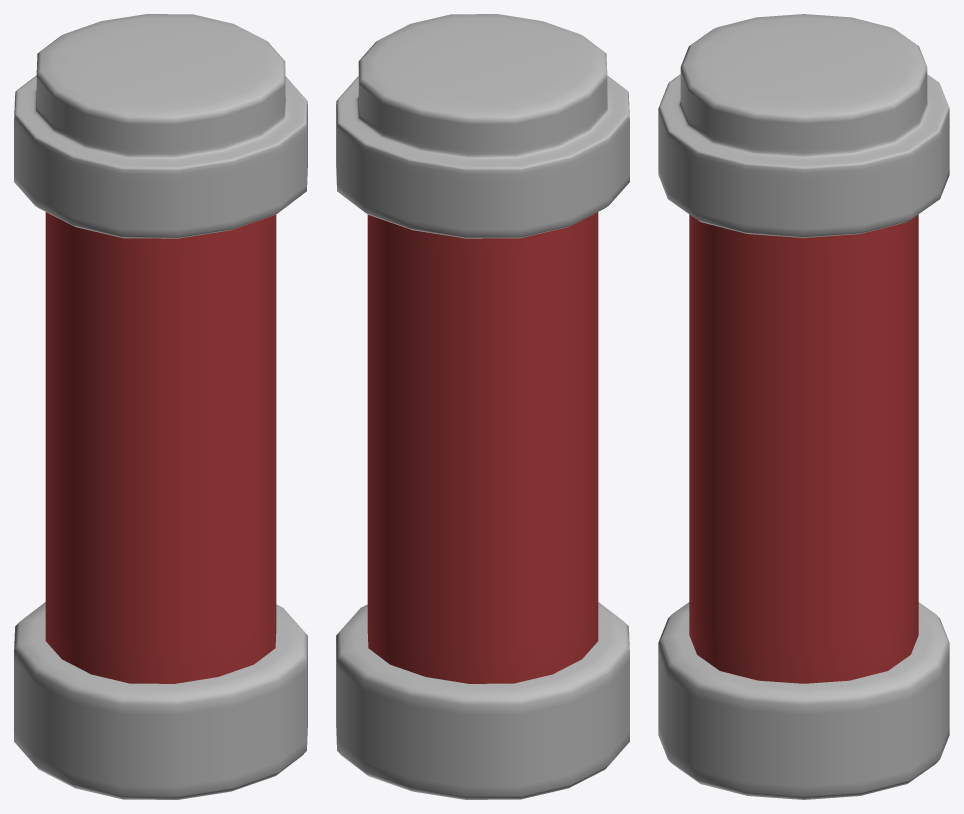
Rendered from Chamber.fbx.
3 renders of one model, left to right at view 1: azimuth 30°, elevation 25°; view 2: azimuth 150°, elevation 25°; view 3: azimuth 270°, elevation 25°, orthographic.
Visible parts, largest first — view 1: pCube4; view 2: pCube4; view 3: pCube4.
Boxes of the visible parts, x1,y1,x2,y2 form: pCube4: (14,14,307,799); pCube4: (336,14,629,799); pCube4: (658,14,949,799).
Bounding box in the file's own units: 214 × 552 × 214.
